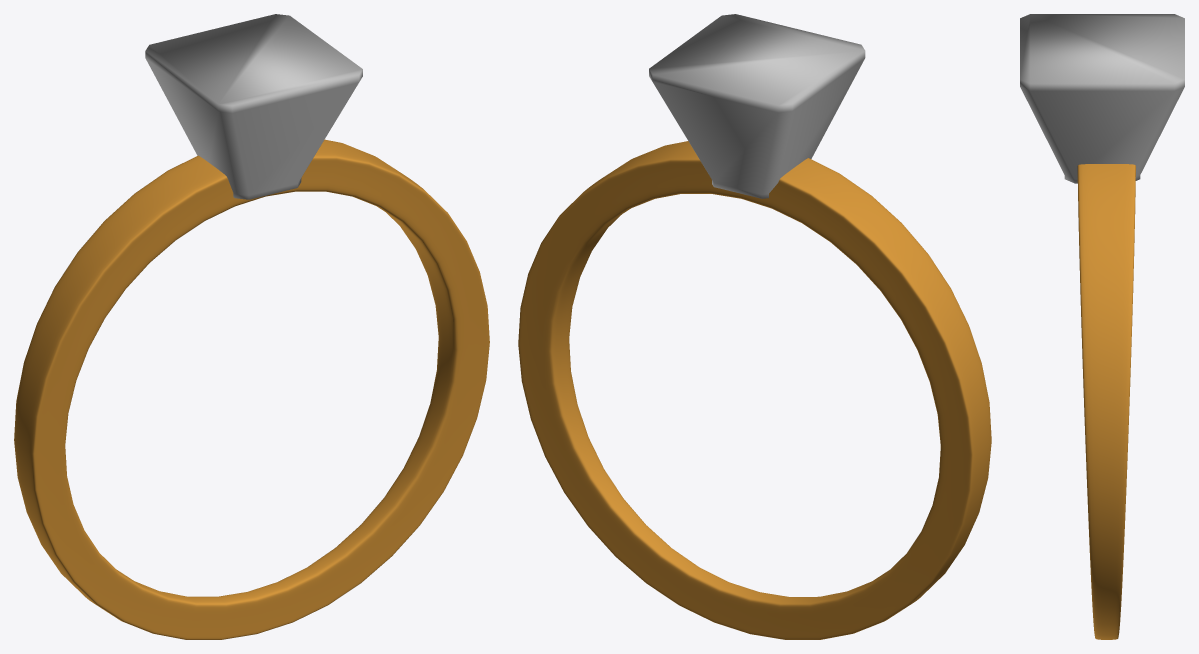
The model's file is theRing.fbx.
3 views of the same model, side by side, from view 1: azimuth 30°, elevation 25°; view 2: azimuth 150°, elevation 25°; view 3: azimuth 270°, elevation 25° (orthographic).
Visible parts, largest first — view 1: Torus; view 2: Torus; view 3: Torus.
Part boxes in pixels (box(x1,y1,x2,y2)): Torus: box(14, 14, 489, 639); Torus: box(518, 14, 991, 639); Torus: box(1020, 14, 1184, 639).
Size of the model in its own units: 318 by 379 by 100.
